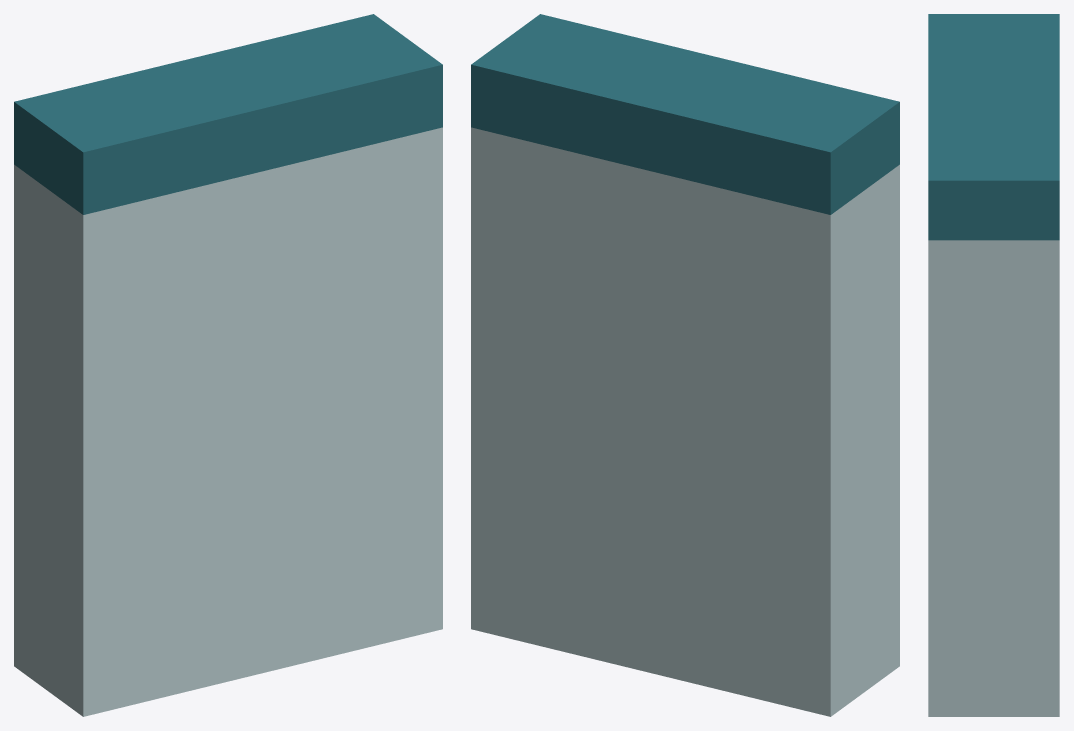
Rendered from Lv2Obsticle1Left1.fbx.
3 views of the same model, side by side, from view 1: azimuth 30°, elevation 25°; view 2: azimuth 150°, elevation 25°; view 3: azimuth 270°, elevation 25° (orthographic). The views are drawn at different scales.
Parts seen in each view (by area): view 1: Lv2Obsticle1Left1; view 2: Lv2Obsticle1Left1; view 3: Lv2Obsticle1Left1.
Boxes of the visible parts, x1,y1,x2,y2 form: Lv2Obsticle1Left1: (14, 14, 442, 716); Lv2Obsticle1Left1: (471, 14, 899, 716); Lv2Obsticle1Left1: (928, 14, 1059, 716).
Bounding box in the file's own units: 1200 × 1800 × 400.
